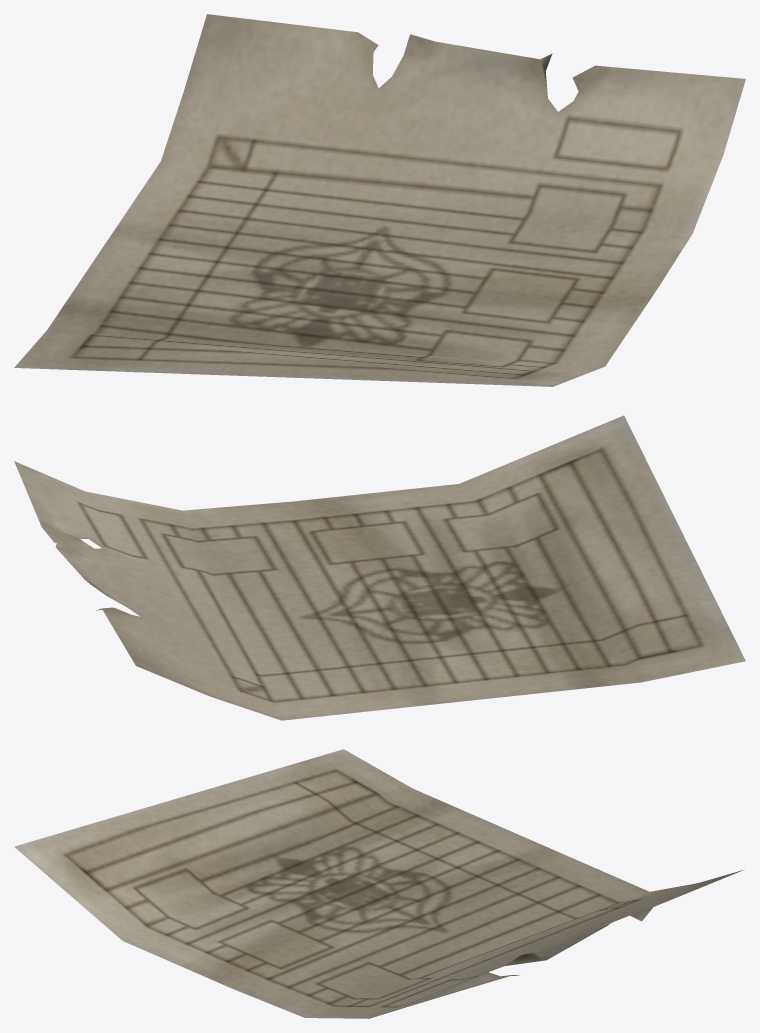
File: a_SWAbook02c.glb
3 views of the same model, one above another, from view 1: azimuth 30°, elevation 25°; view 2: azimuth 150°, elevation 25°; view 3: azimuth 270°, elevation 25° (orthographic). The views are drawn at different scales.
Parts seen in each view (by area): view 1: a_SWAbook02c; view 2: a_SWAbook02c; view 3: a_SWAbook02c.
Part boxes in pixels (x1,y1,x2,y2): a_SWAbook02c: [14, 14, 745, 386]; a_SWAbook02c: [14, 415, 745, 720]; a_SWAbook02c: [14, 749, 744, 1018].
Bounding box in the file's own units: 1.11 × 0.1138 × 1.11.
Materials: 1 (1 with a texture image).
